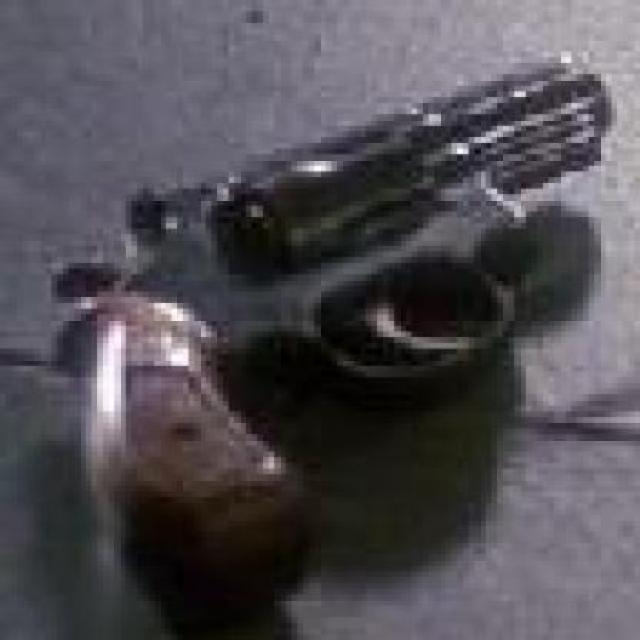rifle: (23, 58, 614, 637)
